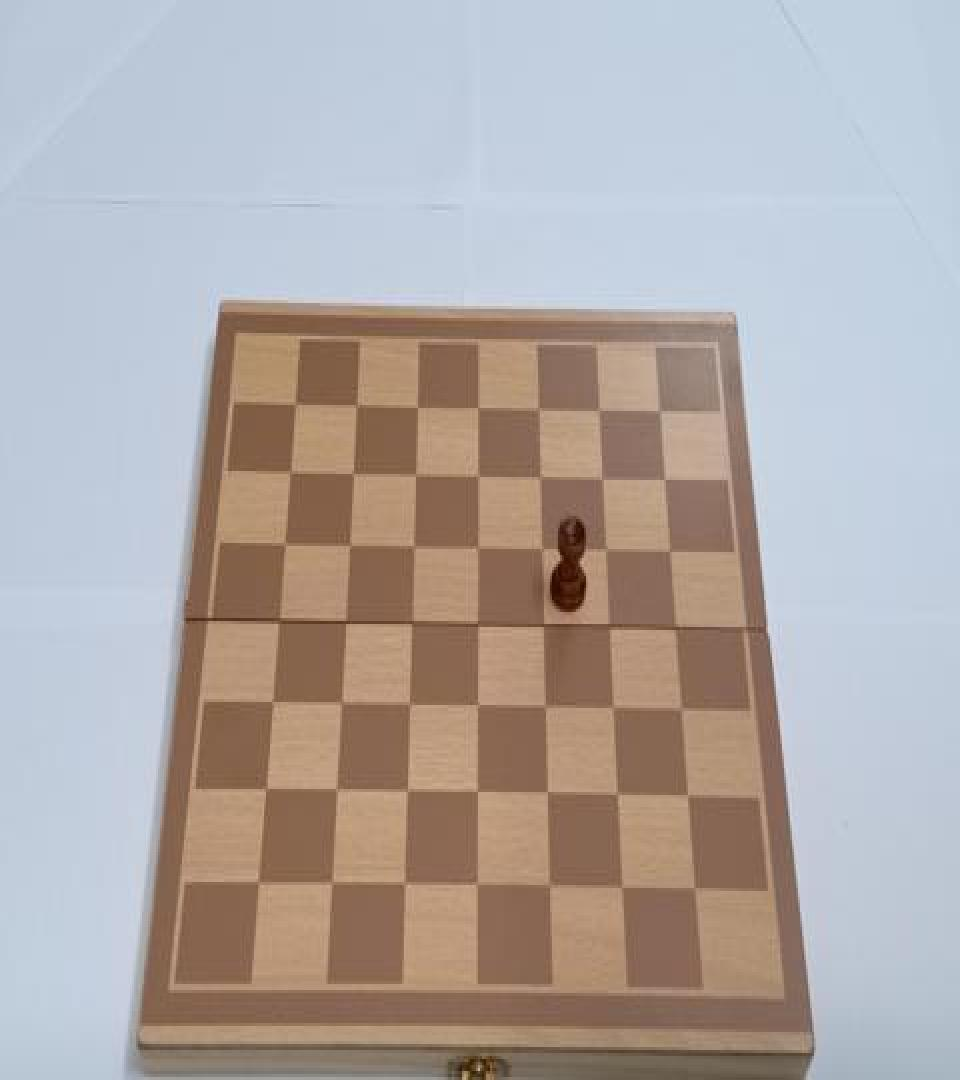xcorner: (281, 460, 299, 488), (408, 394, 426, 422), (468, 394, 486, 422), (286, 393, 304, 420), (276, 534, 294, 561), (270, 610, 288, 637), (258, 778, 276, 805), (251, 870, 269, 897), (347, 393, 365, 420), (344, 462, 362, 489), (340, 534, 358, 561), (337, 610, 355, 637), (328, 778, 346, 805), (324, 870, 342, 897), (406, 462, 424, 489), (404, 534, 422, 561), (402, 610, 420, 637), (398, 778, 416, 805), (396, 870, 414, 897), (468, 612, 486, 639), (468, 693, 486, 720), (468, 778, 486, 805), (469, 870, 487, 897), (528, 396, 546, 423), (534, 612, 552, 639), (536, 693, 554, 720), (538, 778, 556, 805), (588, 396, 606, 423), (599, 612, 617, 639), (603, 693, 621, 720), (608, 780, 626, 807), (648, 397, 666, 424), (653, 465, 671, 492), (659, 537, 677, 564), (671, 693, 689, 720), (677, 780, 695, 807), (264, 692, 282, 718), (333, 692, 351, 718), (401, 692, 419, 718), (468, 464, 486, 490), (468, 536, 486, 562), (530, 464, 548, 490), (532, 536, 550, 562), (541, 872, 559, 898), (592, 464, 610, 490), (595, 536, 613, 562), (613, 872, 631, 898), (665, 614, 683, 640), (684, 872, 702, 898)
